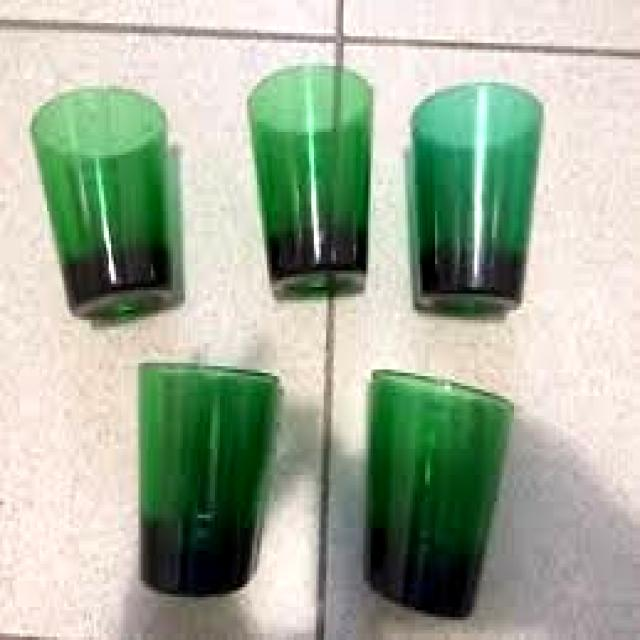Glass: (362, 365, 519, 623), (26, 77, 185, 327), (134, 360, 282, 600), (239, 57, 379, 309), (409, 82, 544, 320)
